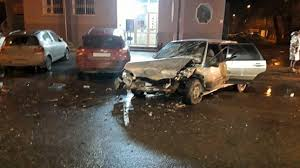car: (121, 31, 263, 103)
